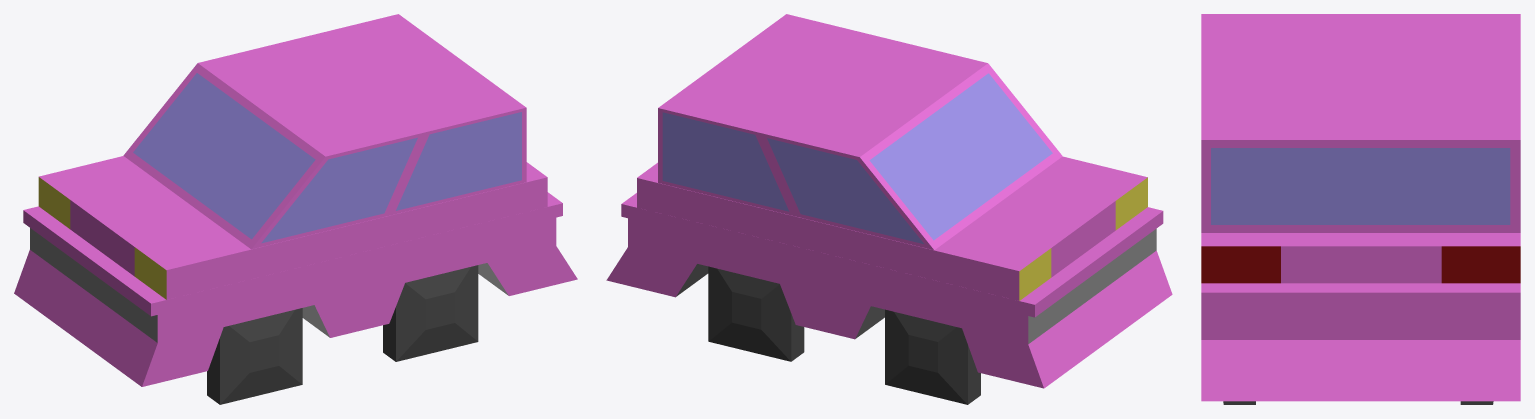
File: car_pink.glb
3 views of the same model, side by side, from view 1: azimuth 30°, elevation 25°; view 2: azimuth 150°, elevation 25°; view 3: azimuth 270°, elevation 25° (orthographic). The views are drawn at different scales.
Visible parts, largest first — view 1: Top, Chassis, Doors, Middle, Tire1.003, Tire1.001; view 2: Top, Chassis, Doors, Middle, Tire1.002, Tire1; view 3: Top, Chassis, Doors, Middle.
Boxes of the visible parts, x1,y1,x2,y2 form: Top: (123, 14, 526, 249); Chassis: (14, 217, 577, 386); Doors: (38, 156, 547, 299); Middle: (23, 192, 562, 316); Tire1.003: (207, 308, 302, 404); Tire1.001: (383, 265, 478, 361); Top: (658, 14, 1062, 250); Chassis: (606, 218, 1172, 388); Doors: (637, 156, 1147, 300); Middle: (621, 193, 1163, 317); Tire1.002: (885, 309, 980, 404); Tire1: (708, 266, 804, 361); Top: (1201, 17, 1520, 232); Chassis: (1201, 308, 1520, 401); Doors: (1201, 14, 1520, 283); Middle: (1201, 283, 1520, 308).
Bounding box in the file's own units: 10.57 × 5.36 × 5.37.
